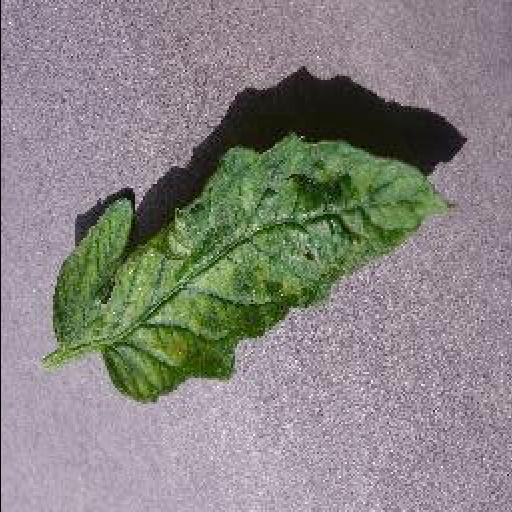disease_tomato: (52, 134, 454, 404)
